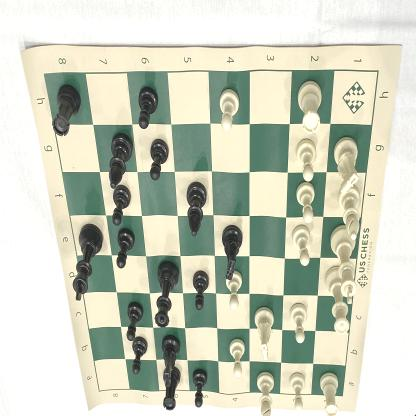black-bishop: (108, 132, 134, 194), (186, 181, 208, 238)
black-king: (71, 223, 104, 305)
black-knight: (219, 224, 247, 279), (160, 335, 183, 389)
black-pawn: (137, 82, 159, 130), (149, 139, 171, 182), (116, 226, 136, 272), (111, 185, 132, 227), (192, 270, 211, 312), (191, 366, 209, 409), (126, 301, 144, 341), (131, 336, 147, 375)
black-queen: (156, 262, 180, 330)
black-rook: (54, 85, 81, 141), (160, 365, 184, 412)
white-bishop: (338, 185, 364, 242), (256, 369, 275, 416)
white-king: (329, 224, 360, 306)
white-knight: (333, 135, 361, 195), (253, 305, 276, 362)
white-pawn: (218, 86, 241, 134), (295, 137, 317, 184), (291, 227, 314, 267), (296, 182, 316, 226), (228, 337, 248, 380), (288, 371, 308, 414), (289, 303, 309, 344), (226, 269, 243, 312)
white-queen: (324, 264, 352, 338)
white-rook: (298, 81, 324, 139), (318, 372, 342, 416)
